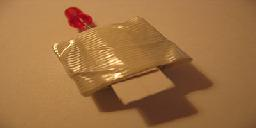LED: (63, 6, 93, 30)
